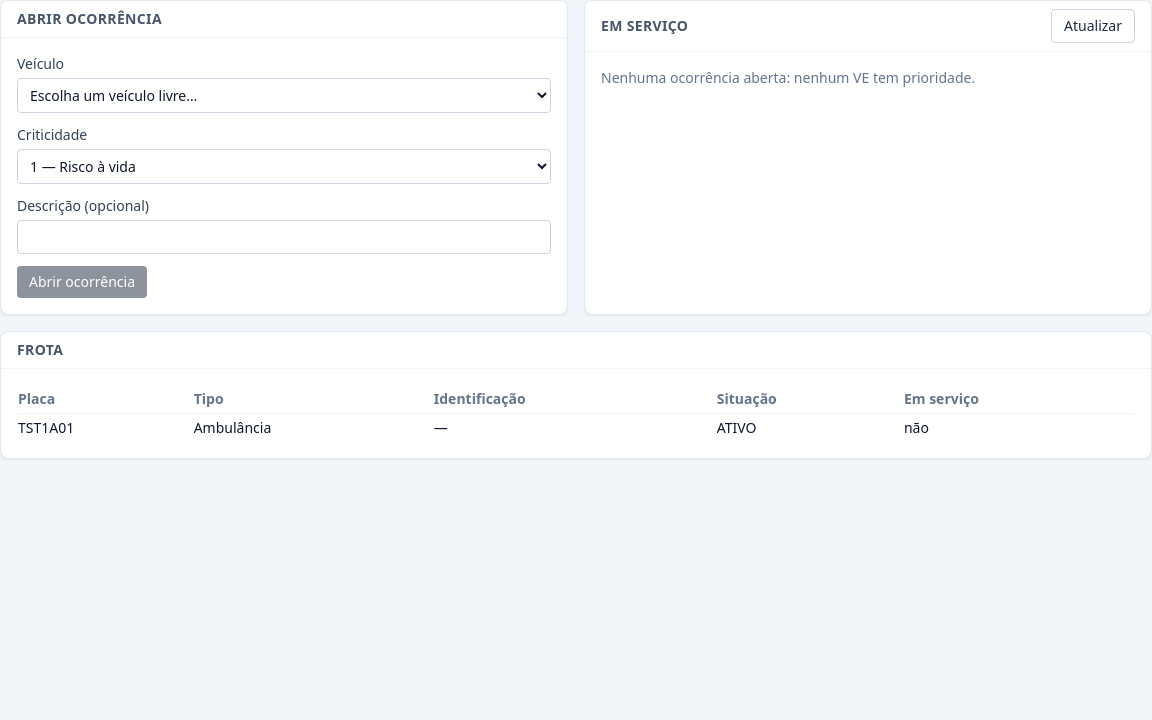
Test: PainelCentral › abre a ocorrência com o veículo e a criticidade escolhidos
Select "TST1A01 — Ambulância" in the dropdown labelled "Veículo" at [284, 96], box top-left (17, 78), bottom-right (551, 113)
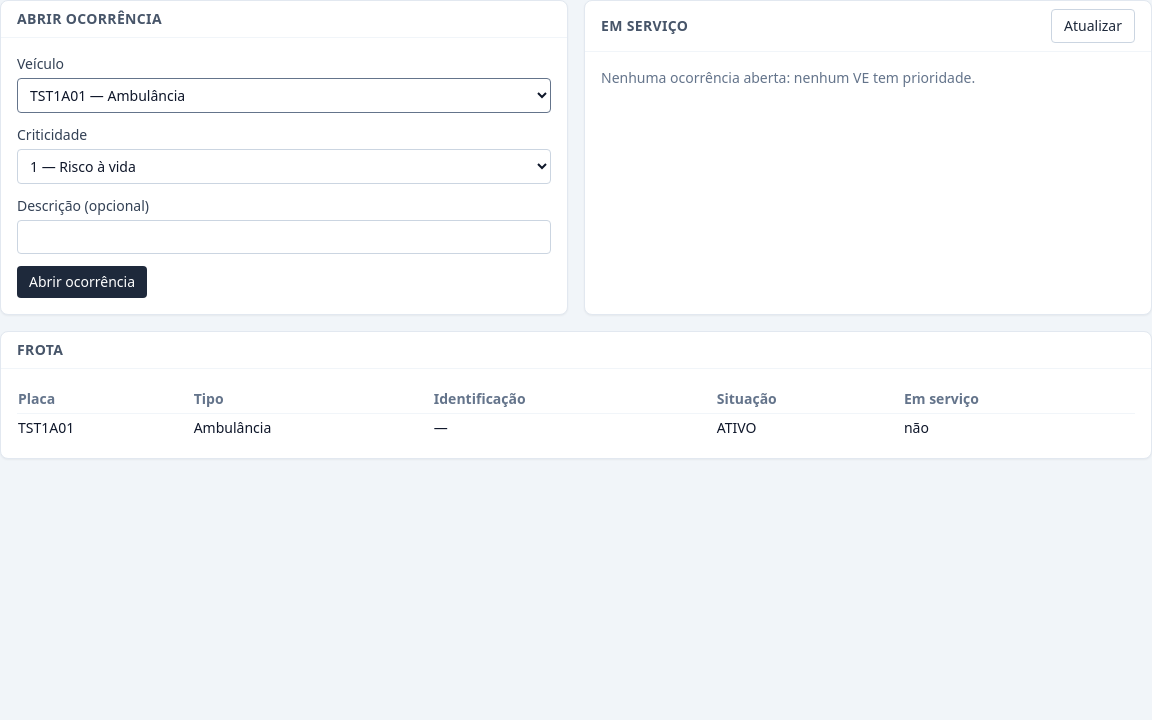
Select "1 — Risco à vida" in the dropdown labelled "Criticidade" at [284, 166], box top-left (17, 149), bottom-right (551, 184)
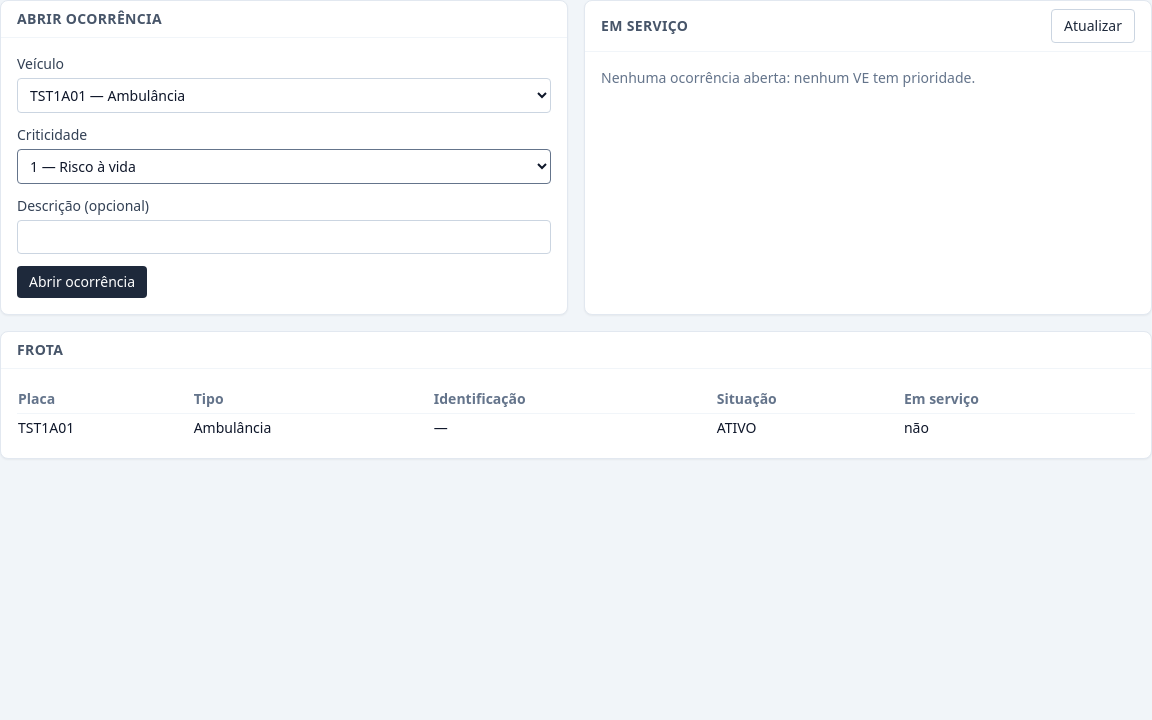
Type "parada cardíaca" into the field labelled "Descrição (opcional)" at [284, 237], box top-left (17, 220), bottom-right (551, 254)
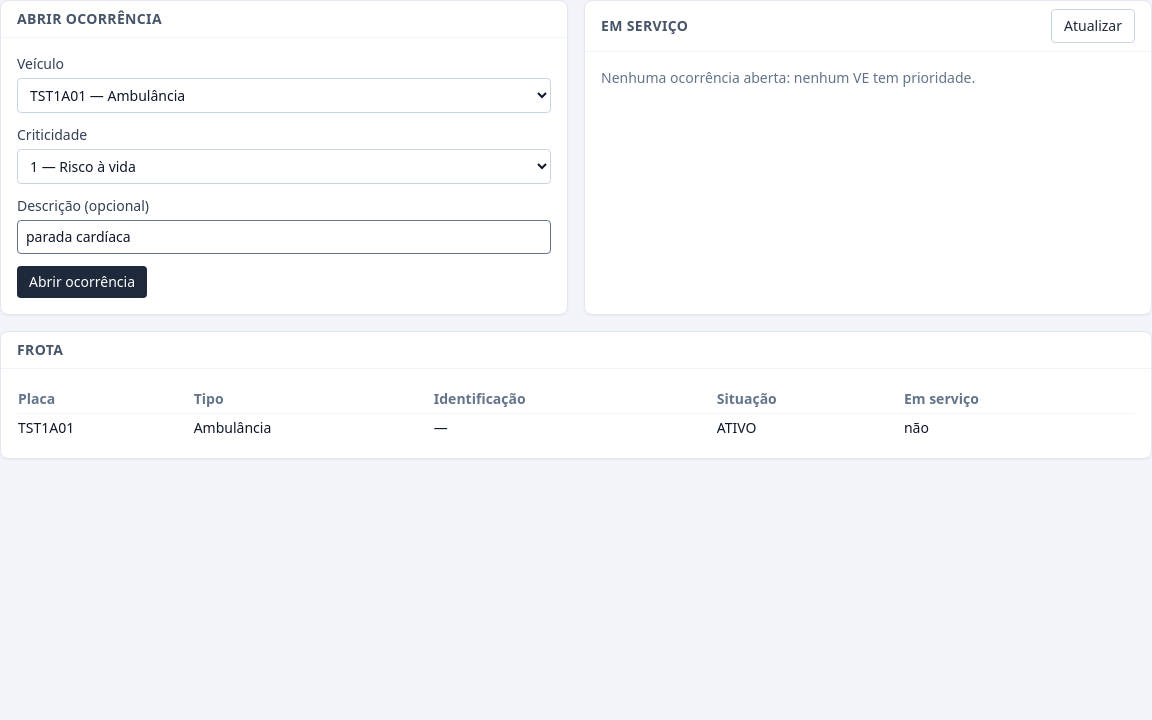
Click the button "Abrir ocorrência" at [82, 282], box top-left (17, 266), bottom-right (147, 298)
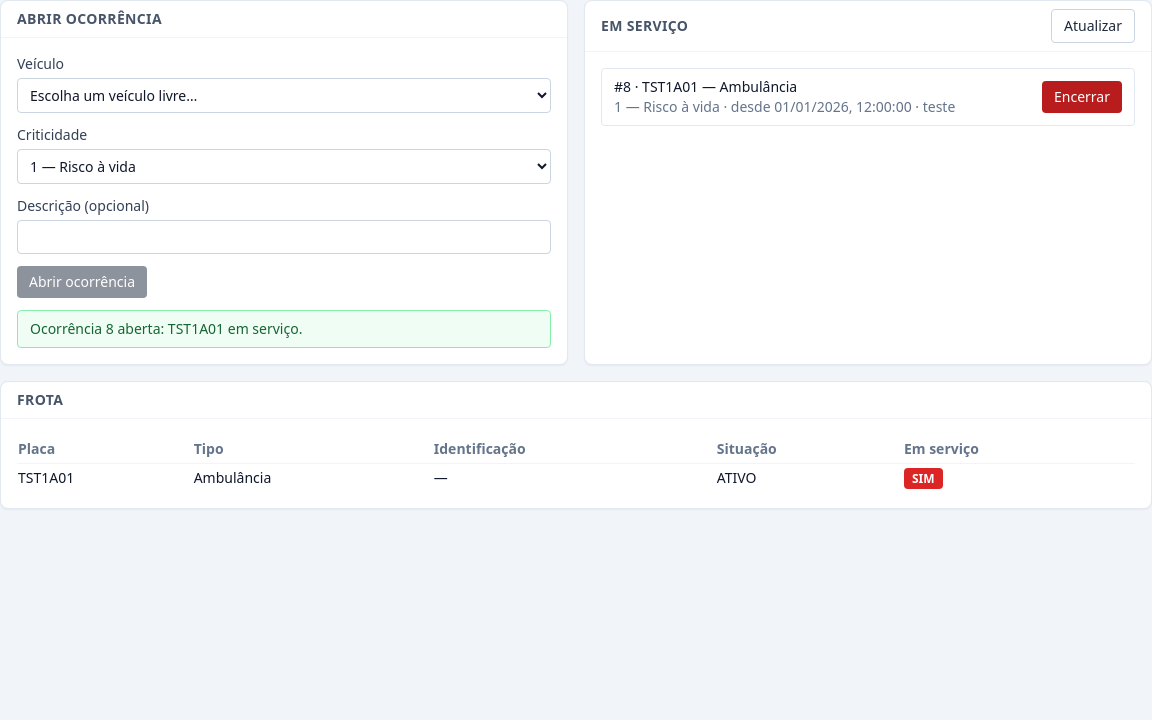
Now the text "Ocorrência 8 aberta: TST1A01 em serviço." is shown, box top-left (17, 310), bottom-right (551, 348)
Now the text "SIM" is shown, box top-left (904, 468), bottom-right (942, 489)
